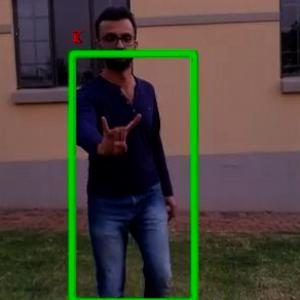takeoff-hand: (86, 99, 143, 162)
